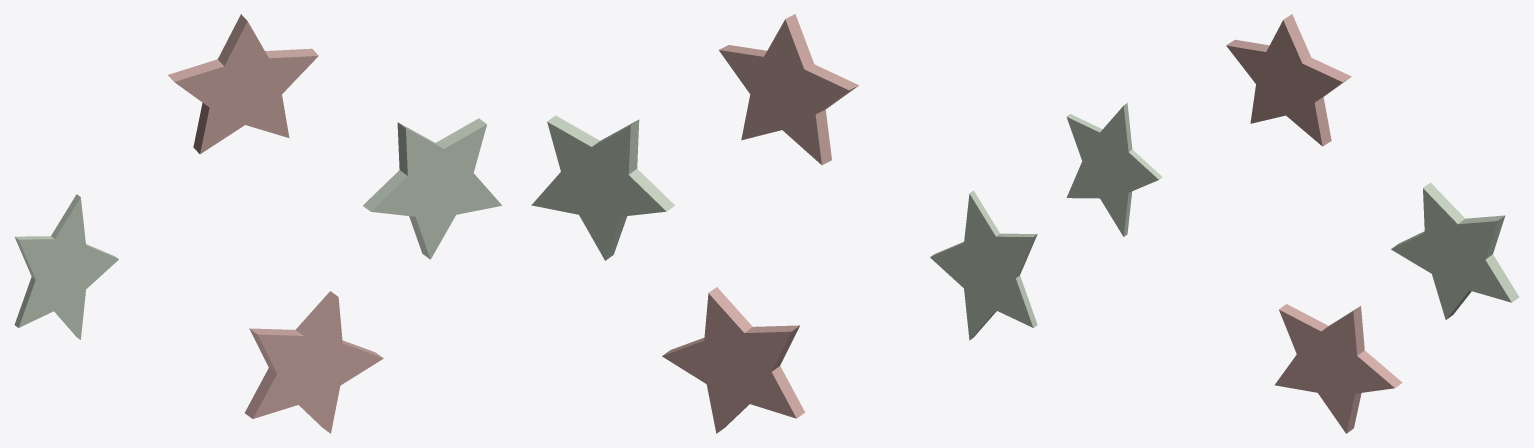
Rendered from Shiny Habbi-Albar (1).glb.
The picture shows the model from 3 angles, left to right: view 1: azimuth 30°, elevation 25°; view 2: azimuth 150°, elevation 25°; view 3: azimuth 330°, elevation 25°; orthographic projection. The views are drawn at different scales.
Parts seen in each view (by area): view 1: Mesh_Mesh_head_geo.001_lambert2SG.001; view 2: Mesh_Mesh_head_geo.001_lambert2SG.001; view 3: Mesh_Mesh_head_geo.001_lambert2SG.001.
Part boxes in pixels (x1,y1,x2,y2): Mesh_Mesh_head_geo.001_lambert2SG.001: [14, 14, 501, 433]; Mesh_Mesh_head_geo.001_lambert2SG.001: [531, 14, 1037, 433]; Mesh_Mesh_head_geo.001_lambert2SG.001: [1066, 14, 1519, 433].
Bounding box in the file's own units: 0.0673 × 0.0567 × 0.00521.
